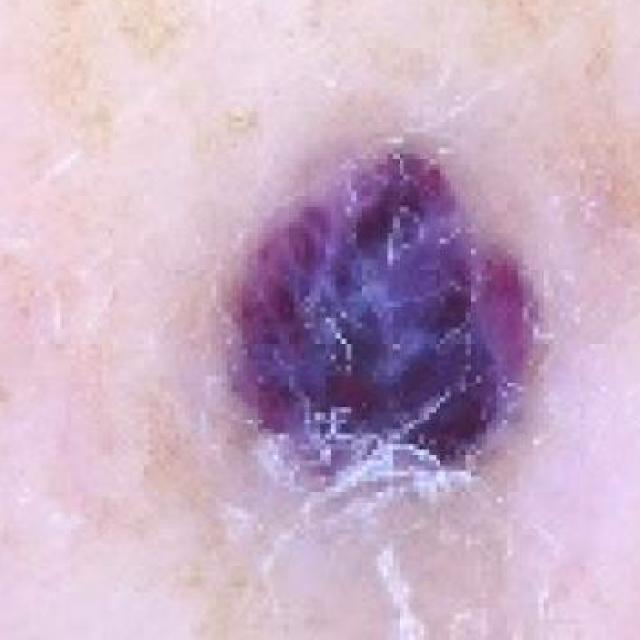VASC: (214, 44, 566, 604)
